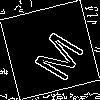M: (25, 25, 86, 84)
